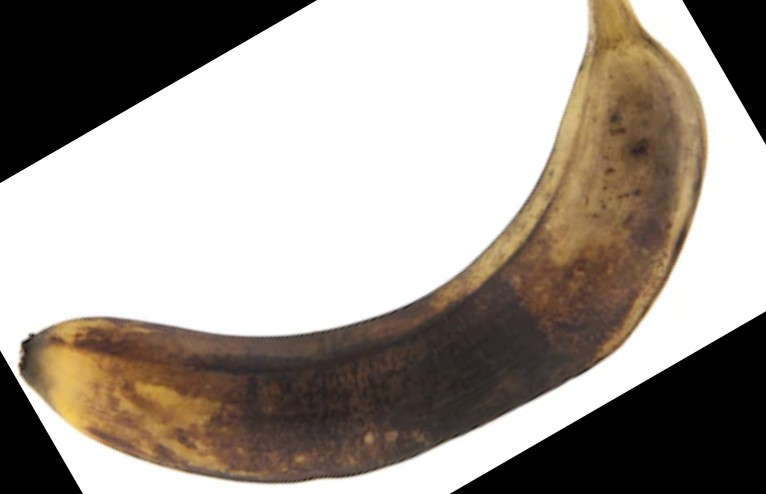rotten_banana: (22, 1, 709, 484)
